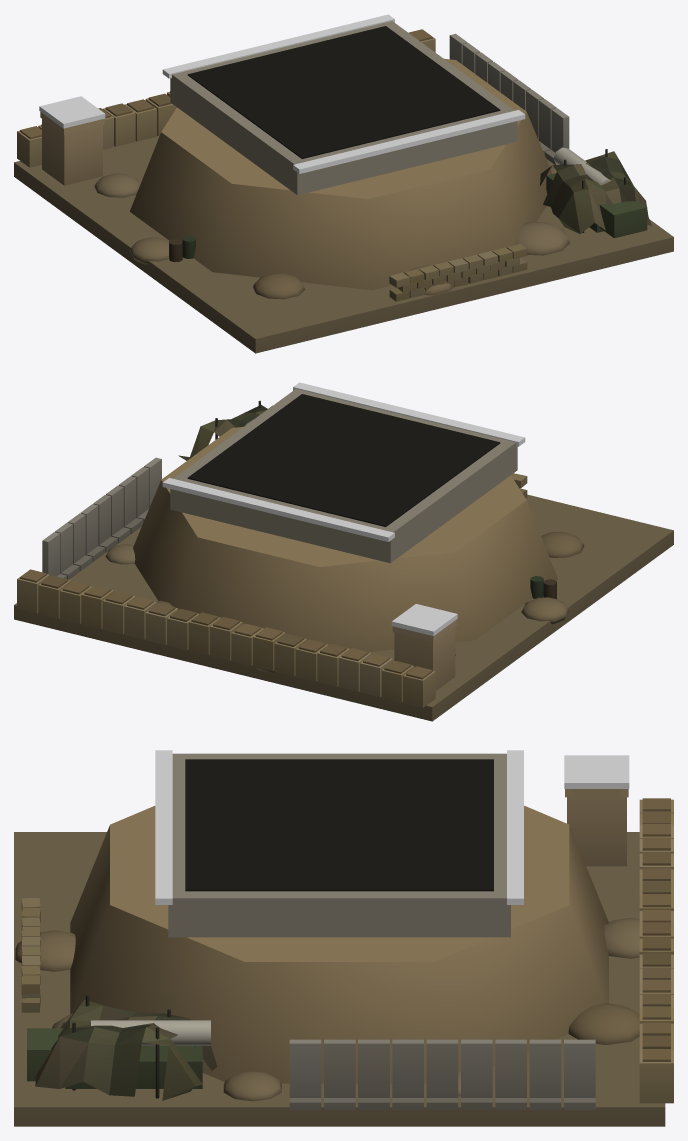
File: m_uplink_40c30082.glb
3 views of the same model, one above another, from view 1: azimuth 30°, elevation 25°; view 2: azimuth 150°, elevation 25°; view 3: azimuth 270°, elevation 25° (orthographic). The views are drawn at different scales.
Visible parts, largest first — view 1: mesh; view 2: mesh; view 3: mesh.
Boxes of the visible parts, <box> form: mesh: <box>14,14,673,353</box>; mesh: <box>14,382,673,721</box>; mesh: <box>14,750,673,1126</box>.
Bounding box in the file's own units: 79.61 × 21.2 × 77.
